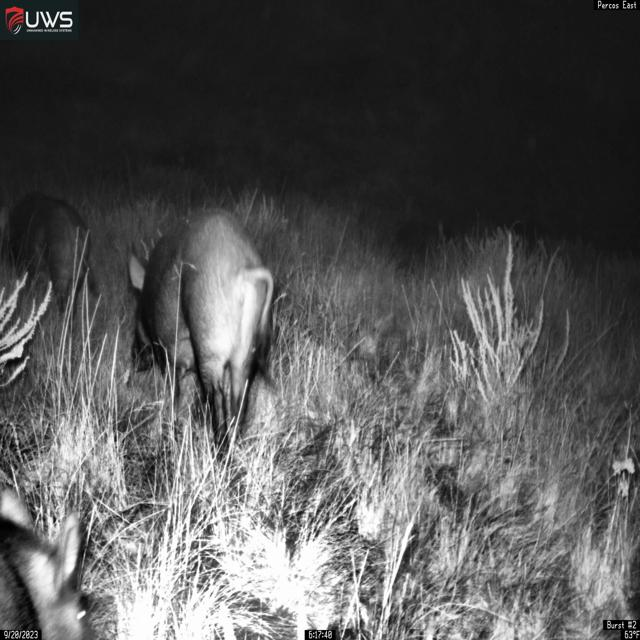pig: (126, 206, 277, 463)
